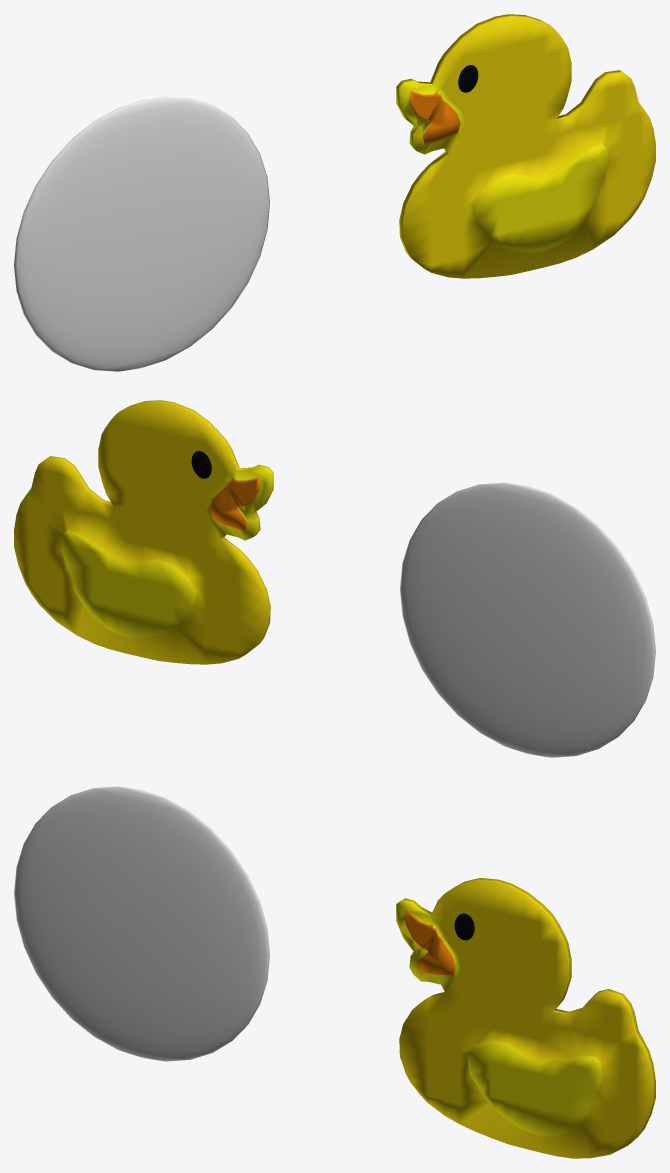
Rendered from CarnieTargets.fbx.
3 renders of one model, top to bottom at view 1: azimuth 30°, elevation 25°; view 2: azimuth 150°, elevation 25°; view 3: azimuth 330°, elevation 25°, orthographic.
Parts seen in each view (by area): view 1: Target, Duck; view 2: Target, Duck; view 3: Target, Duck.
Boxes of the visible parts, x1,y1,x2,y2 form: Target: (14,96,269,371); Duck: (396,14,655,278); Target: (400,482,655,757); Duck: (14,400,273,664); Target: (14,786,269,1061); Duck: (396,878,655,1158).
Size of the model in its own units: 500 by 200 by 16.
